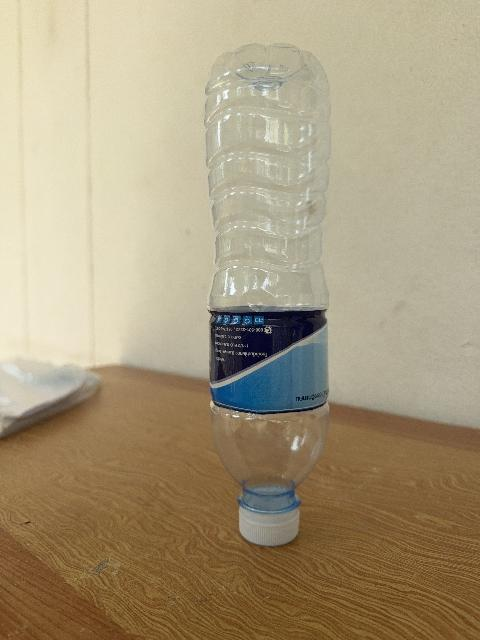bottle: (205, 45, 330, 545)
